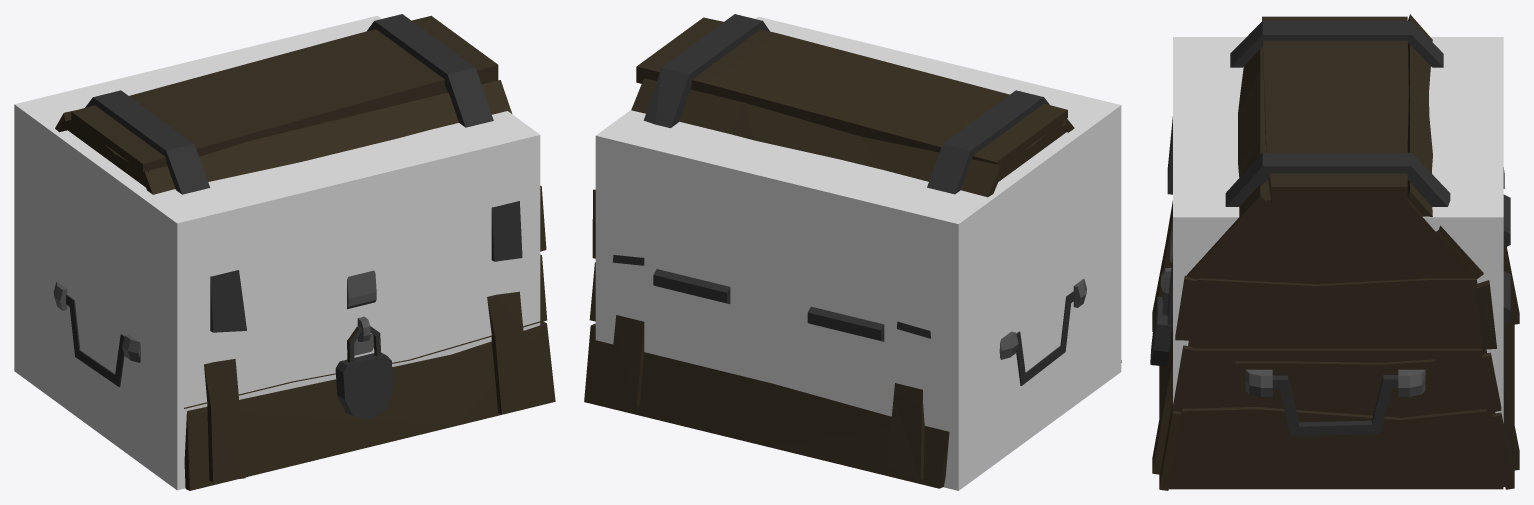
File: wooden_chest_locked.glb
3 renders of one model, left to right at view 1: azimuth 30°, elevation 25°; view 2: azimuth 150°, elevation 25°; view 3: azimuth 270°, elevation 25°, orthographic.
Visible parts, largest first — view 1: Cube, Chest; view 2: Cube, Chest; view 3: Chest, Cube.
Part boxes in pixels (left/top/right/bottom): Cube: left=14, top=15, right=540, bottom=490; Chest: left=53, top=14, right=555, bottom=490; Cube: left=595, top=16, right=1121, bottom=490; Chest: left=584, top=14, right=1121, bottom=488; Chest: left=1150, top=14, right=1519, bottom=490; Cube: left=1173, top=37, right=1503, bottom=487.
Bounding box in the file's own units: 0.8949 × 0.6658 × 0.7154.
